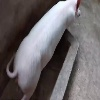heo: (11, 1, 83, 100)
